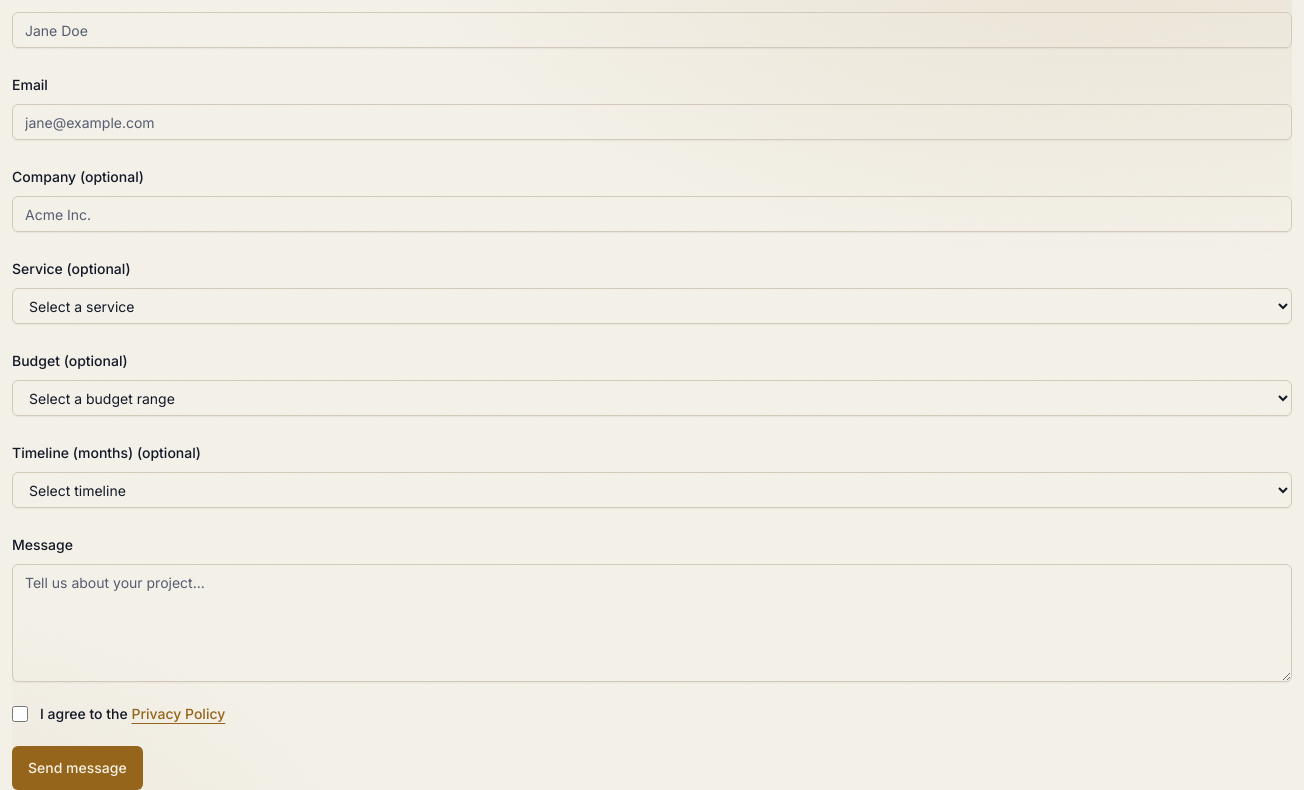
Test: shows validation errors and focuses the first invalid field
(page scrolled)
Click the button "Send message" at {"x": 77, "y": 768}, box [12,746,143,789]
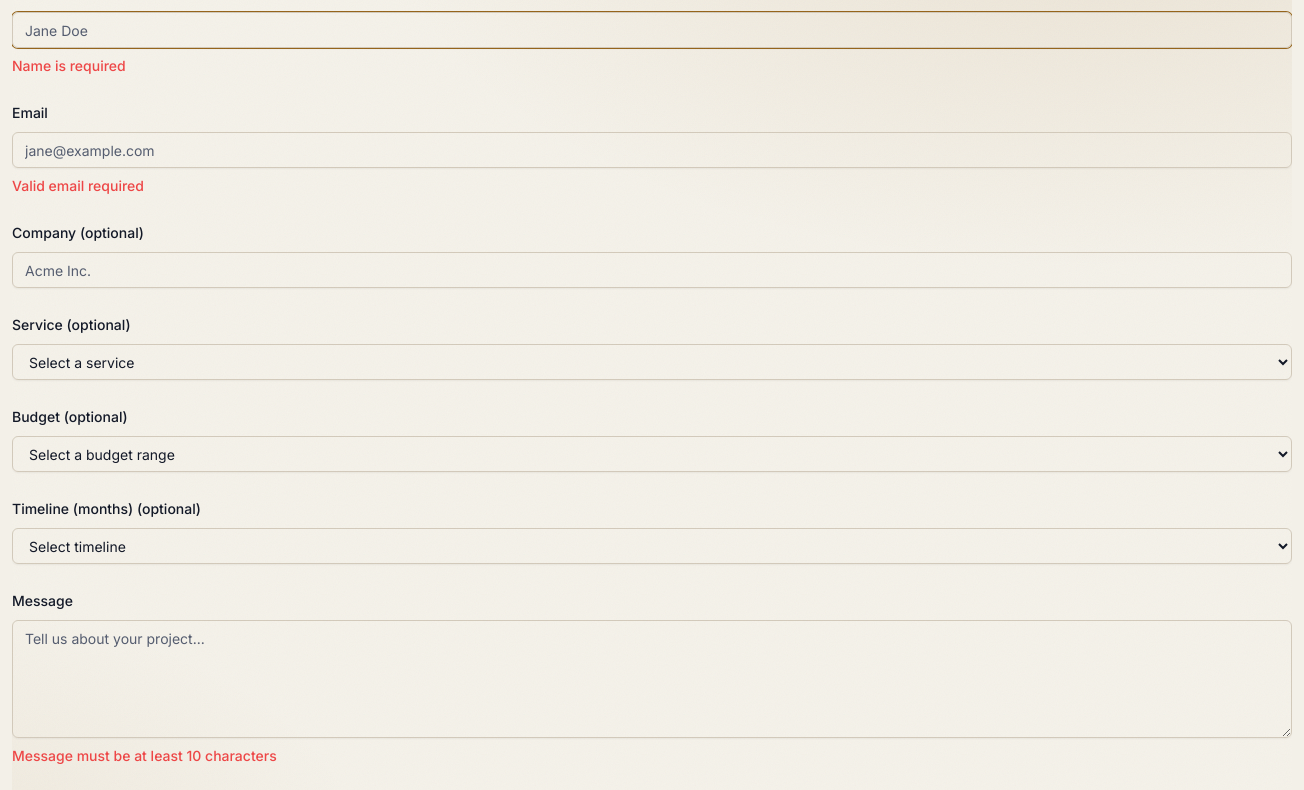
Check: the text "Name is required" is shown, box [12,57,126,74]
Check: the text "Valid email required" is shown, box [12,177,144,194]
Check: the text "Message must be at least 10 characters" is shown, box [12,747,277,764]
